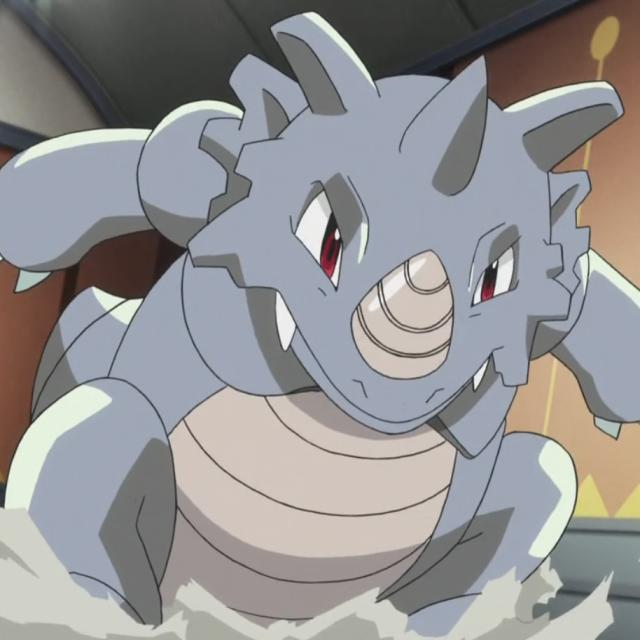Rhydon: (0, 60, 625, 636)
